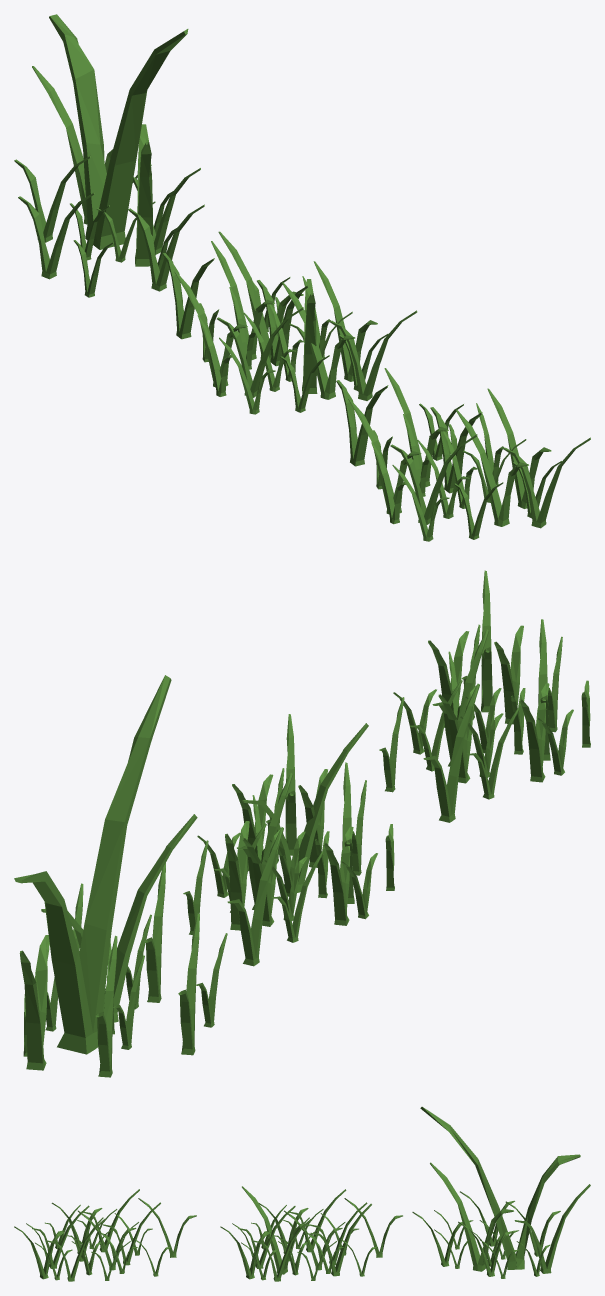
The model's file is SM_grass_patches_DE.fbx.
The picture shows the model from 3 angles, top to bottom: view 1: azimuth 30°, elevation 25°; view 2: azimuth 150°, elevation 25°; view 3: azimuth 270°, elevation 25°; orthographic projection. The views are drawn at different scales.
Parts seen in each view (by area): view 1: SM_grass_patch_3_DE_UI, SM_grass_patch_2_DE_UI, SM_grass_patch_1_DE_UI; view 2: SM_grass_patch_3_DE_UI, SM_grass_patch_2_DE_UI, SM_grass_patch_1_DE_UI; view 3: SM_grass_patch_3_DE_UI, SM_grass_patch_2_DE_UI, SM_grass_patch_1_DE_UI.
Boxes of the visible parts, bbox=[...] form: SM_grass_patch_3_DE_UI: bbox=[14, 14, 204, 297]; SM_grass_patch_2_DE_UI: bbox=[162, 231, 417, 414]; SM_grass_patch_1_DE_UI: bbox=[336, 368, 590, 541]; SM_grass_patch_3_DE_UI: bbox=[14, 675, 227, 1077]; SM_grass_patch_2_DE_UI: bbox=[183, 714, 394, 966]; SM_grass_patch_1_DE_UI: bbox=[379, 570, 590, 822]; SM_grass_patch_3_DE_UI: bbox=[412, 1106, 590, 1278]; SM_grass_patch_2_DE_UI: bbox=[220, 1186, 402, 1281]; SM_grass_patch_1_DE_UI: bbox=[14, 1189, 196, 1281].
Size of the model in its own units: 1.7 by 2.98 by 9.4.
